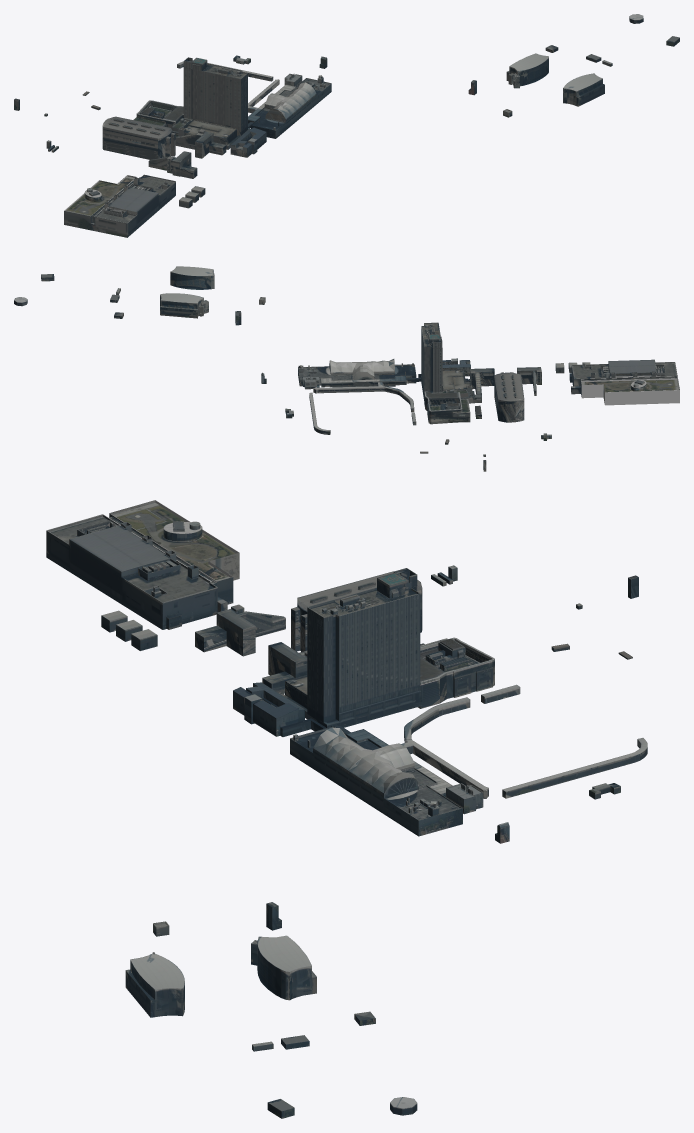
Rendered from 53393663_bldg_6697_op.gltf.
3 views of the same model, one above another, from view 1: azimuth 30°, elevation 25°; view 2: azimuth 150°, elevation 25°; view 3: azimuth 270°, elevation 25° (orthographic). The views are drawn at different scales.
Visible parts, largest first — view 1: bldg_6e52b8c3-2cc9-4e07-a7df-acb5d53942f4, bldg_0e982428-6a4d-44fa-bcf2-6a617f8cbe2f, bldg_eb4ee5fa-3ed3-4779-b6bd-10ac6d826028, bldg_1845499a-0261-4fbe-a277-eddc9f87a3e3, bldg_8cc798b7-35d6-4db1-b6ee-e8127114edf0, bldg_0f170559-7e53-44d2-91d9-ea1d2d2158d3, bldg_1751167c-4ed1-49cd-9537-0020ecc2ab91, bldg_b9337315-f07a-4b10-a3b7-38cf3c505535, bldg_c7117116-012c-43ea-8114-d25e340747d6, bldg_c4dc84b0-f272-41ed-9fdc-5da0cd687f69, bldg_67aa0f63-2abd-489e-823e-b78b86b04f80; view 2: bldg_6e52b8c3-2cc9-4e07-a7df-acb5d53942f4, bldg_1845499a-0261-4fbe-a277-eddc9f87a3e3, bldg_0e982428-6a4d-44fa-bcf2-6a617f8cbe2f, bldg_eb4ee5fa-3ed3-4779-b6bd-10ac6d826028, bldg_0f170559-7e53-44d2-91d9-ea1d2d2158d3, bldg_8cc798b7-35d6-4db1-b6ee-e8127114edf0, bldg_1751167c-4ed1-49cd-9537-0020ecc2ab91, bldg_339928c3-a204-4182-82cc-93a6505bcc53, bldg_d9093442-be2e-48b0-b75f-d23cb30d3eb7, bldg_c7117116-012c-43ea-8114-d25e340747d6, bldg_b9337315-f07a-4b10-a3b7-38cf3c505535, bldg_c4dc84b0-f272-41ed-9fdc-5da0cd687f69 (+1 smaller); view 3: bldg_6e52b8c3-2cc9-4e07-a7df-acb5d53942f4, bldg_0e982428-6a4d-44fa-bcf2-6a617f8cbe2f, bldg_1845499a-0261-4fbe-a277-eddc9f87a3e3, bldg_0f170559-7e53-44d2-91d9-ea1d2d2158d3, bldg_8cc798b7-35d6-4db1-b6ee-e8127114edf0, bldg_1751167c-4ed1-49cd-9537-0020ecc2ab91, bldg_c4dc84b0-f272-41ed-9fdc-5da0cd687f69, bldg_67aa0f63-2abd-489e-823e-b78b86b04f80, bldg_eb4ee5fa-3ed3-4779-b6bd-10ac6d826028, bldg_339928c3-a204-4182-82cc-93a6505bcc53, bldg_c273f003-0513-41c6-973c-cd94f7549849, bldg_b9337315-f07a-4b10-a3b7-38cf3c505535.
Part boxes in pixels (box(x1,y1,x2,y2)): bldg_6e52b8c3-2cc9-4e07-a7df-acb5d53942f4: box(64, 174, 175, 237); bldg_0e982428-6a4d-44fa-bcf2-6a617f8cbe2f: box(183, 57, 249, 135); bldg_eb4ee5fa-3ed3-4779-b6bd-10ac6d826028: box(102, 116, 175, 159); bldg_1845499a-0261-4fbe-a277-eddc9f87a3e3: box(250, 75, 331, 138); bldg_8cc798b7-35d6-4db1-b6ee-e8127114edf0: box(563, 73, 604, 106); bldg_0f170559-7e53-44d2-91d9-ea1d2d2158d3: box(133, 100, 183, 128); bldg_1751167c-4ed1-49cd-9537-0020ecc2ab91: box(506, 53, 548, 86); bldg_b9337315-f07a-4b10-a3b7-38cf3c505535: box(175, 129, 226, 158); bldg_c7117116-012c-43ea-8114-d25e340747d6: box(178, 120, 236, 145); bldg_c4dc84b0-f272-41ed-9fdc-5da0cd687f69: box(148, 151, 197, 178); bldg_67aa0f63-2abd-489e-823e-b78b86b04f80: box(230, 127, 266, 157); bldg_6e52b8c3-2cc9-4e07-a7df-acb5d53942f4: box(571, 359, 679, 405); bldg_1845499a-0261-4fbe-a277-eddc9f87a3e3: box(298, 359, 416, 387); bldg_0e982428-6a4d-44fa-bcf2-6a617f8cbe2f: box(421, 322, 442, 400); bldg_eb4ee5fa-3ed3-4779-b6bd-10ac6d826028: box(494, 372, 524, 422); bldg_0f170559-7e53-44d2-91d9-ea1d2d2158d3: box(424, 391, 470, 424); bldg_8cc798b7-35d6-4db1-b6ee-e8127114edf0: box(170, 266, 214, 289); bldg_1751167c-4ed1-49cd-9537-0020ecc2ab91: box(160, 293, 203, 318); bldg_339928c3-a204-4182-82cc-93a6505bcc53: box(313, 382, 414, 412); bldg_d9093442-be2e-48b0-b75f-d23cb30d3eb7: box(320, 376, 406, 387); bldg_c7117116-012c-43ea-8114-d25e340747d6: box(442, 370, 472, 396); bldg_b9337315-f07a-4b10-a3b7-38cf3c505535: box(465, 368, 494, 395); bldg_c4dc84b0-f272-41ed-9fdc-5da0cd687f69: box(517, 367, 541, 395); bldg_6e52b8c3-2cc9-4e07-a7df-acb5d53942f4: box(46, 500, 239, 629); bldg_0e982428-6a4d-44fa-bcf2-6a617f8cbe2f: box(307, 568, 420, 727); bldg_1845499a-0261-4fbe-a277-eddc9f87a3e3: box(290, 726, 462, 836); bldg_0f170559-7e53-44d2-91d9-ea1d2d2158d3: box(417, 637, 494, 708); bldg_8cc798b7-35d6-4db1-b6ee-e8127114edf0: box(125, 952, 184, 1017); bldg_1751167c-4ed1-49cd-9537-0020ecc2ab91: box(257, 935, 316, 1000); bldg_c4dc84b0-f272-41ed-9fdc-5da0cd687f69: box(195, 609, 285, 656); bldg_67aa0f63-2abd-489e-823e-b78b86b04f80: box(233, 682, 325, 736); bldg_eb4ee5fa-3ed3-4779-b6bd-10ac6d826028: box(291, 571, 422, 651); bldg_339928c3-a204-4182-82cc-93a6505bcc53: box(401, 697, 488, 798); bldg_c273f003-0513-41c6-973c-cd94f7549849: box(502, 738, 647, 798); bldg_b9337315-f07a-4b10-a3b7-38cf3c505535: box(262, 642, 307, 693).
Size of the model in its own units: 661 by 67.89 by 283.
Materials: 5 (4 with a texture image).
